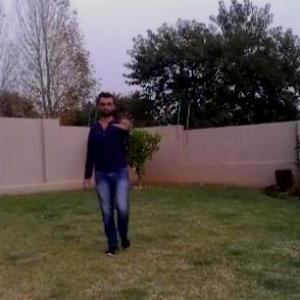follow_hand: (114, 106, 139, 134)
